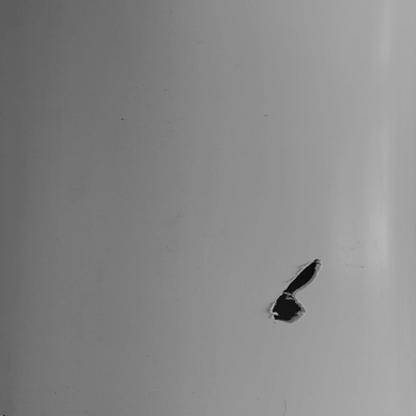kongdong: (268, 259, 323, 325)
